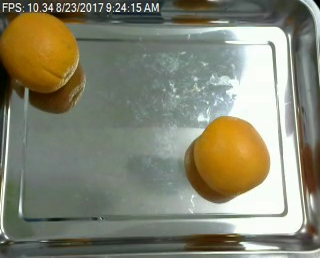Orange: (1, 11, 81, 92), (195, 115, 272, 196)
